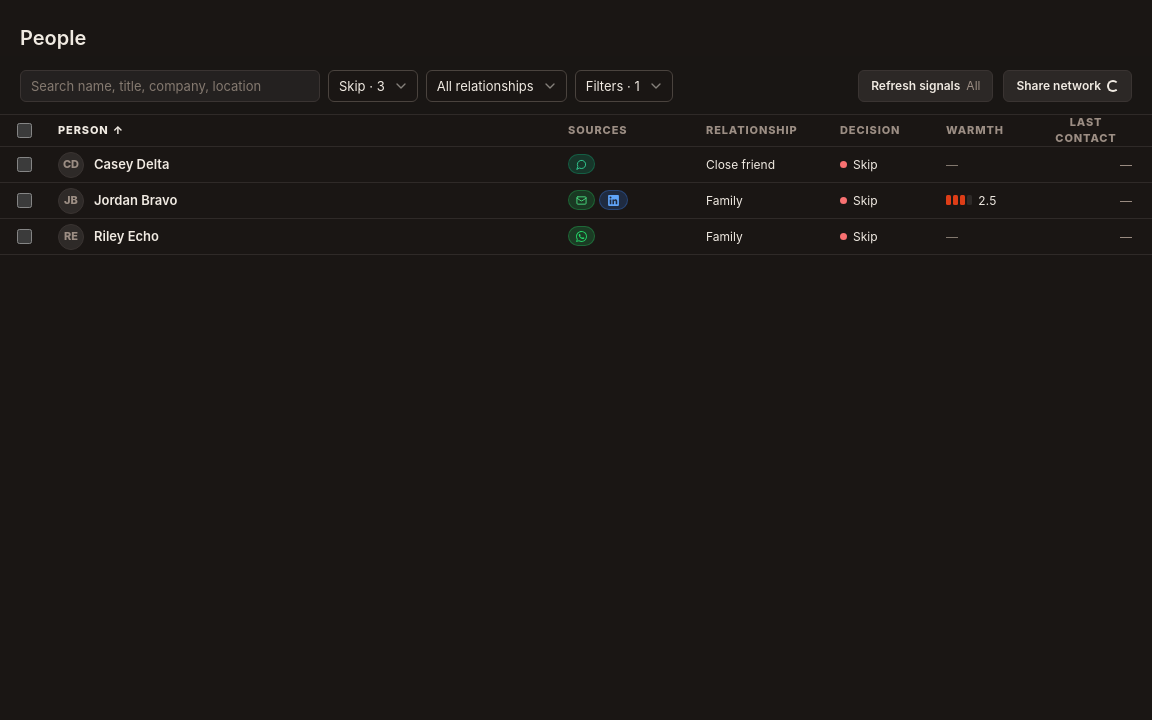
Test: PeoplePage › asks in the bar after D, deletes on Enter, and Escape drops the question
Click the checkbox named "Select all 3 matching people": (24, 131) [16,123,32,138]
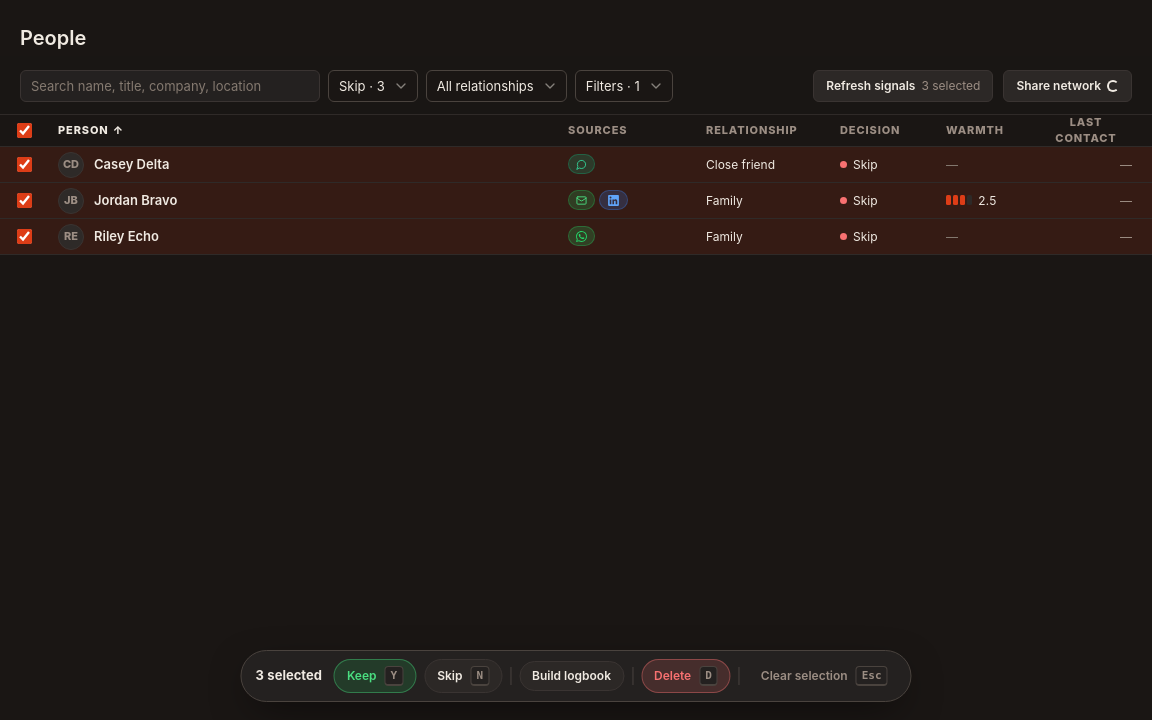
Press d
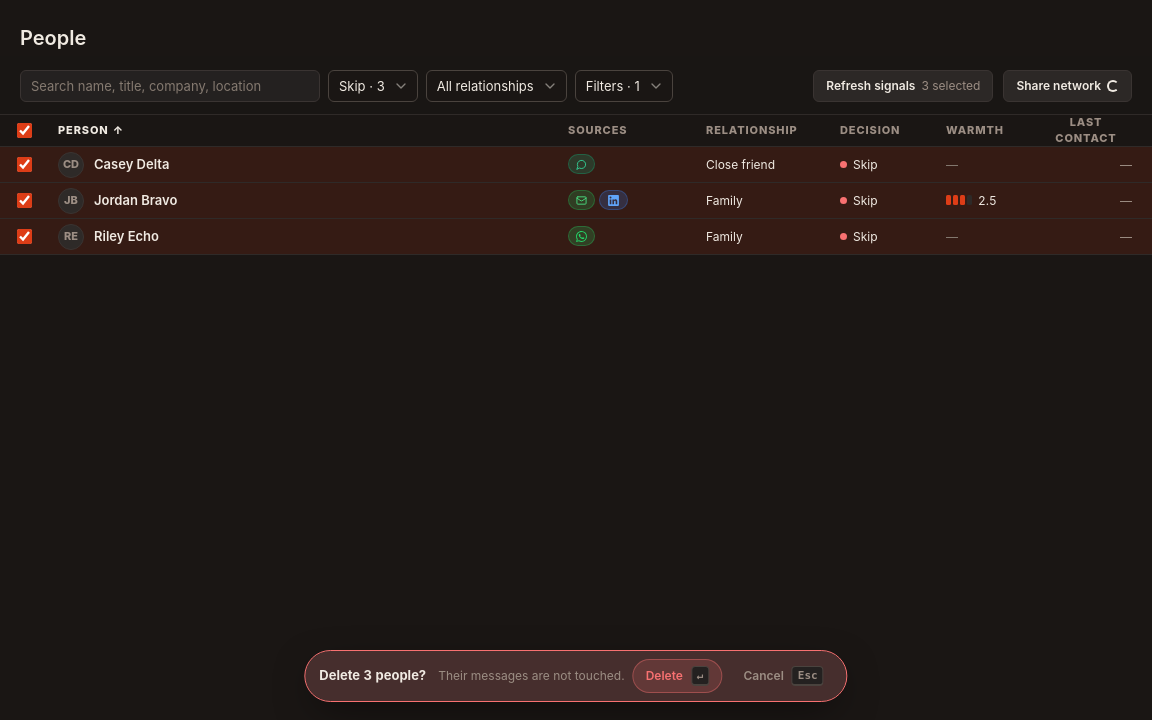
Now the text "Delete 3 people?" is shown, box [319,666,426,685]
Press Escape
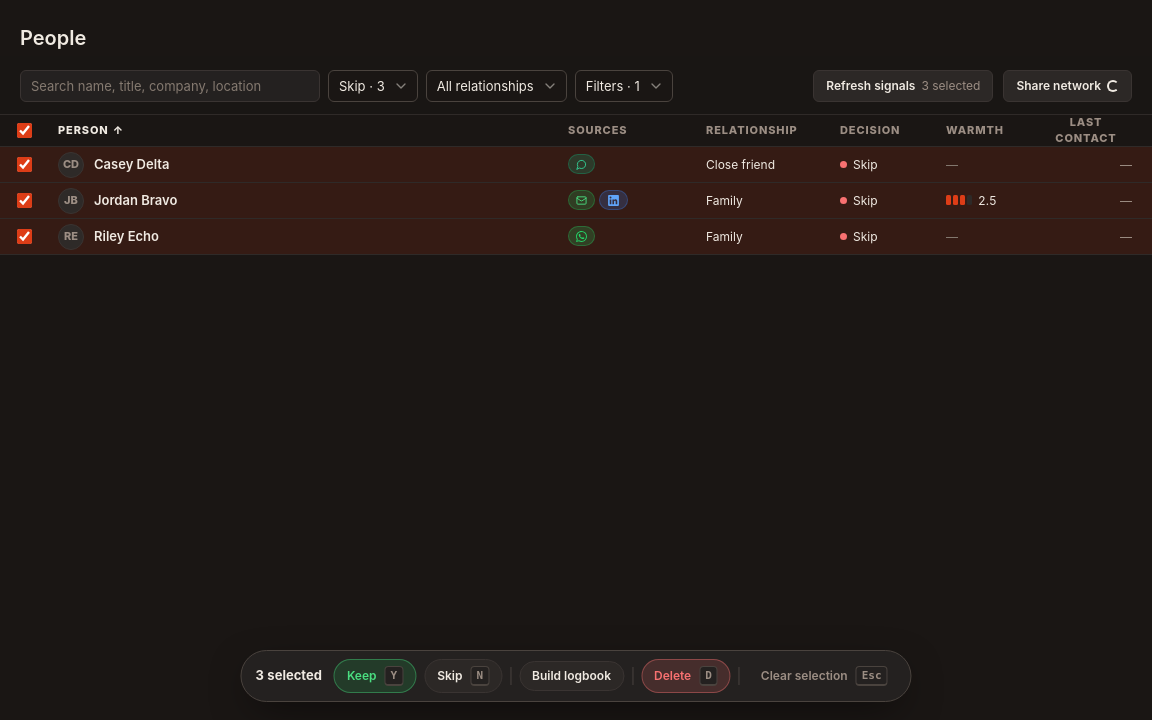
Now the element named "Selection" does not have class "confirming", box [240,650,912,702]
Press Enter
Click the button "Delete D": (686, 676) [641,659,731,693]
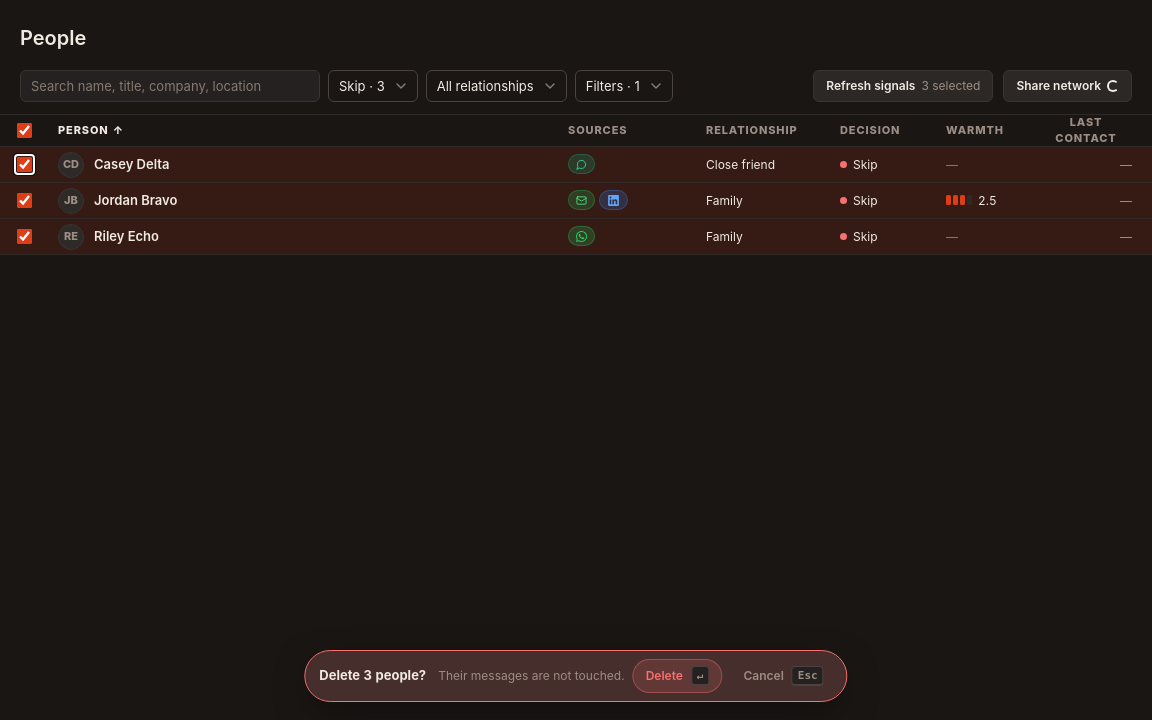
Press Enter in the checkbox named "Select Casey Delta", box [16,157,32,172]
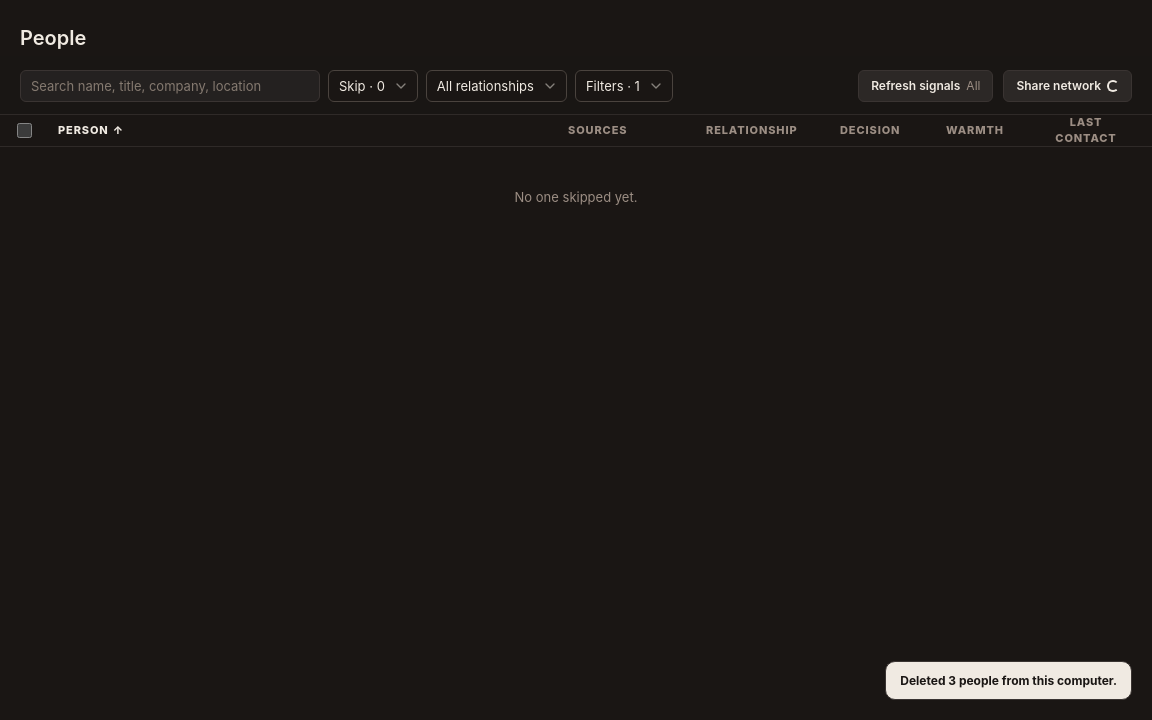
Now the text "Deleted 3 people from this computer." is shown, box [900,672,1117,689]
